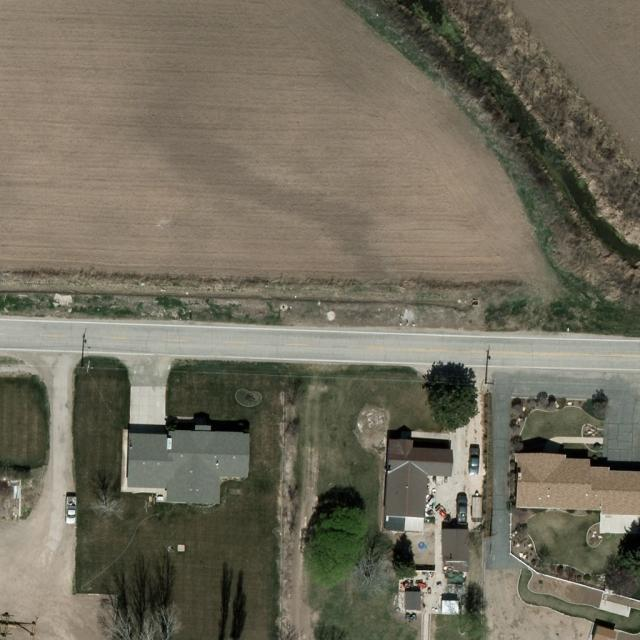vehicle: (64, 496, 78, 524), (456, 494, 467, 526), (470, 447, 480, 475)
